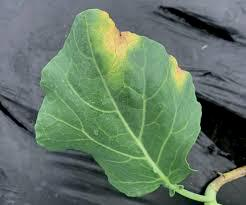Bok-Choy-Diseased: (38, 10, 202, 192)
